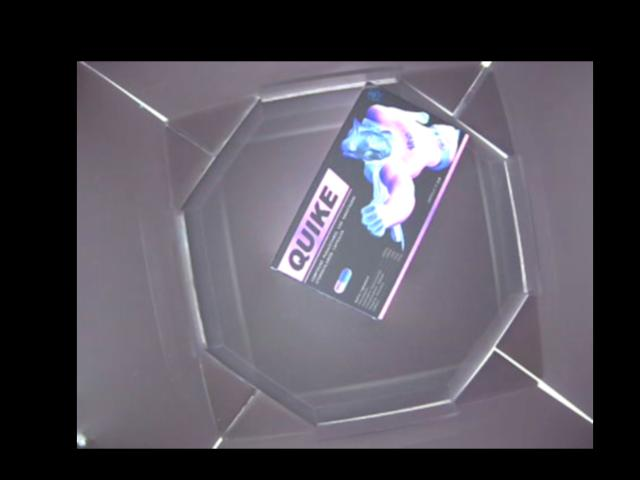Medicine: (272, 80, 468, 325)
